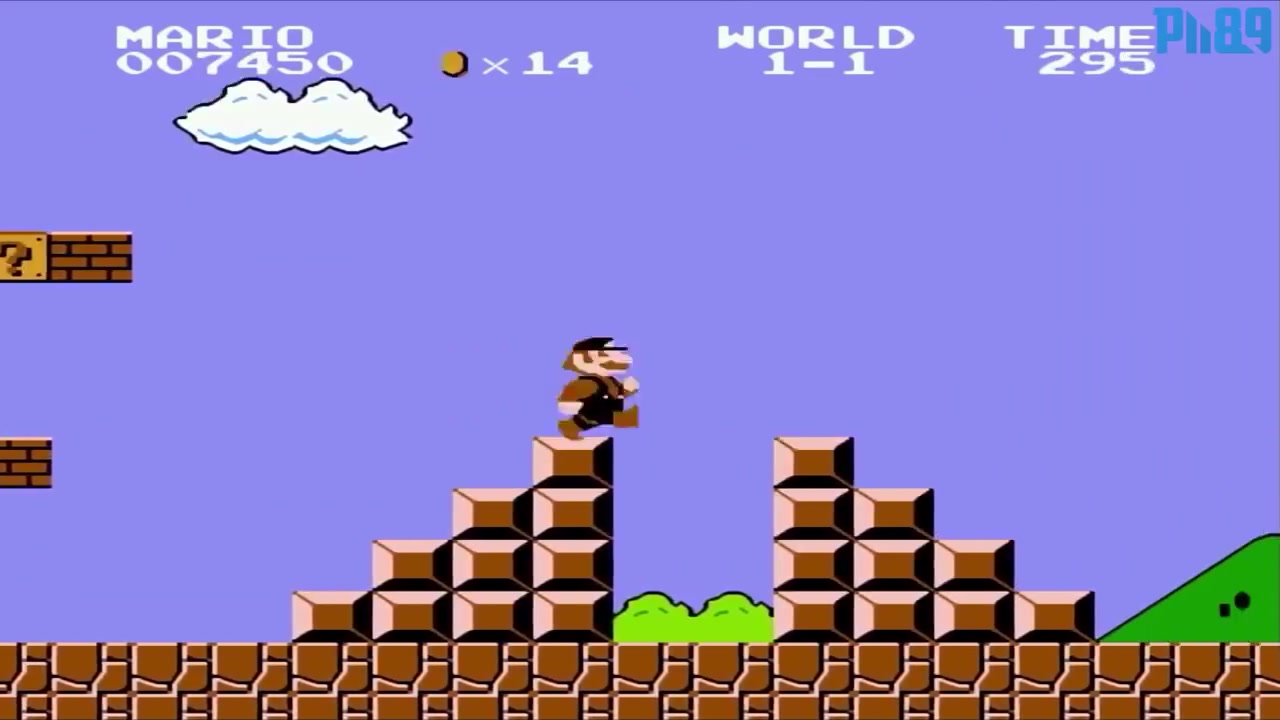mario: (535, 330, 657, 441)
